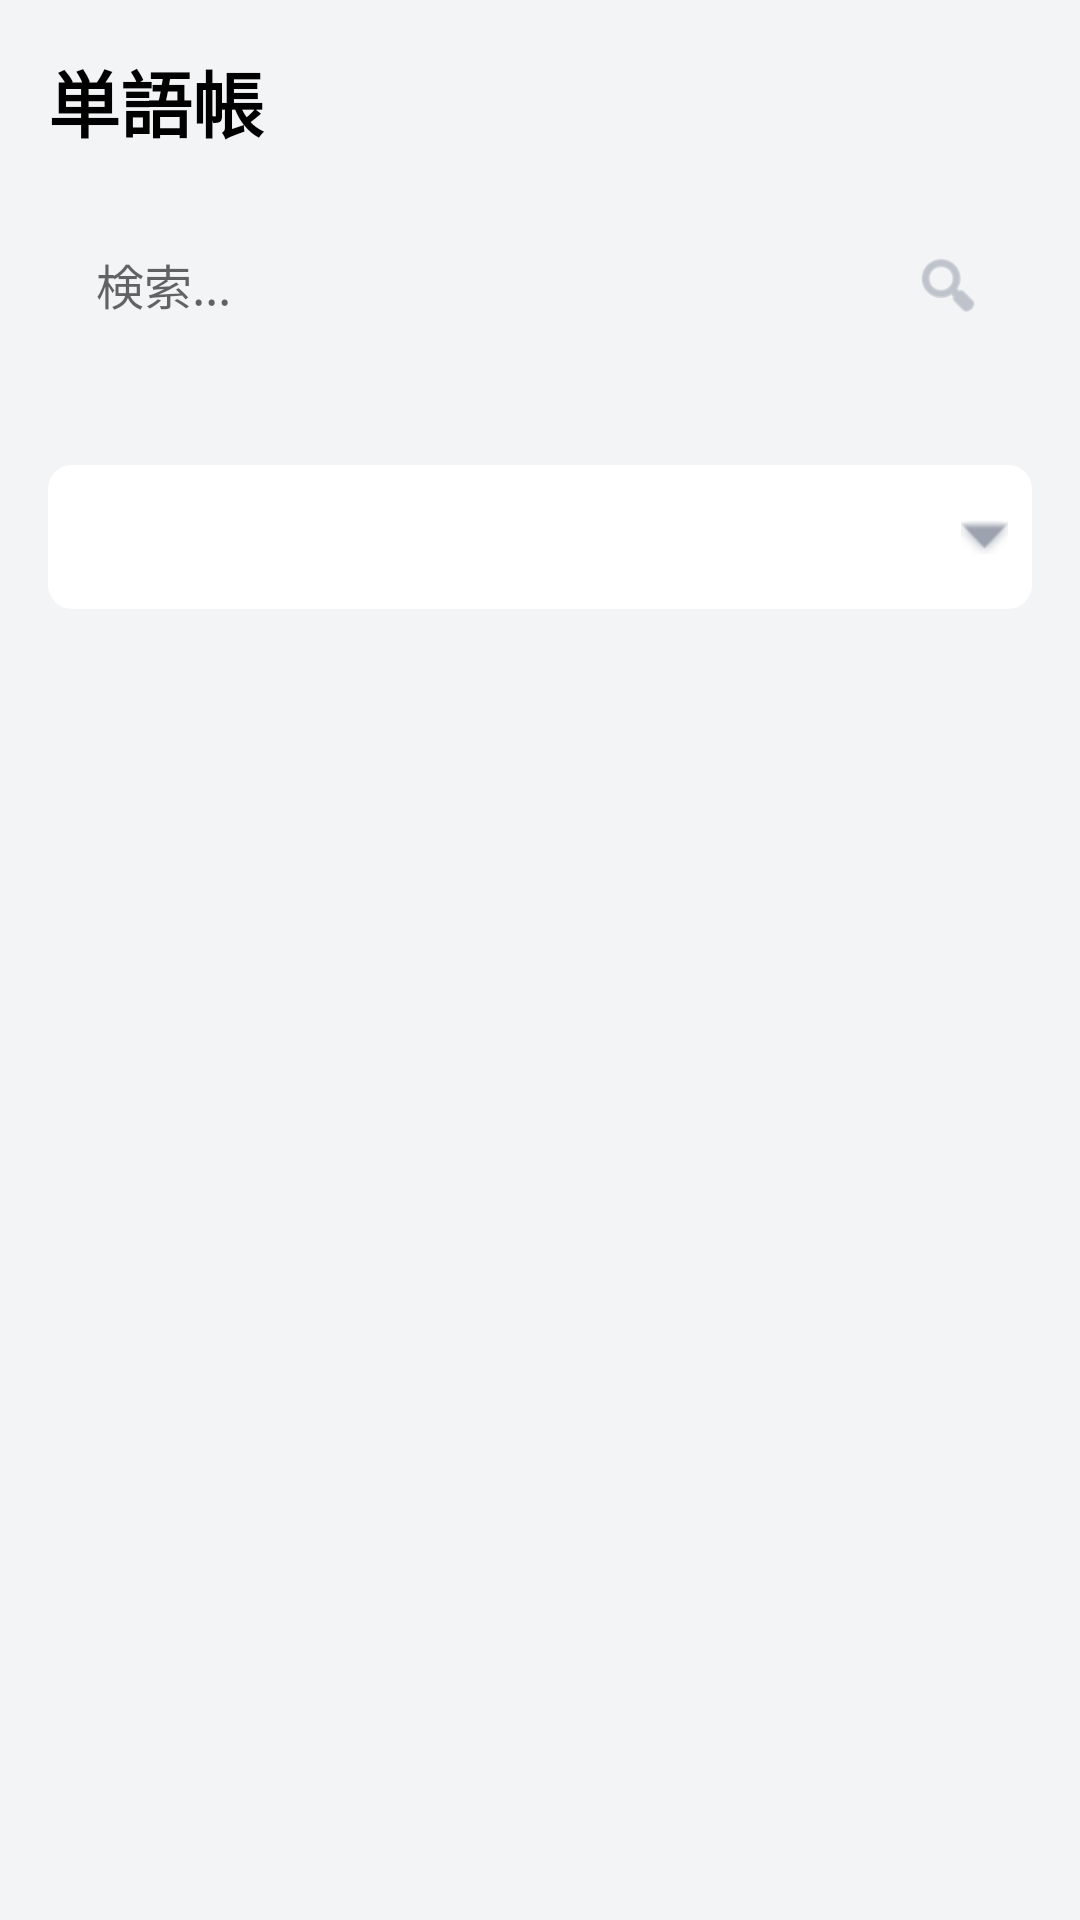

Icon click points for this 1080px x 1920px phone screenshot, format [x,y]:
search: [948,285]
